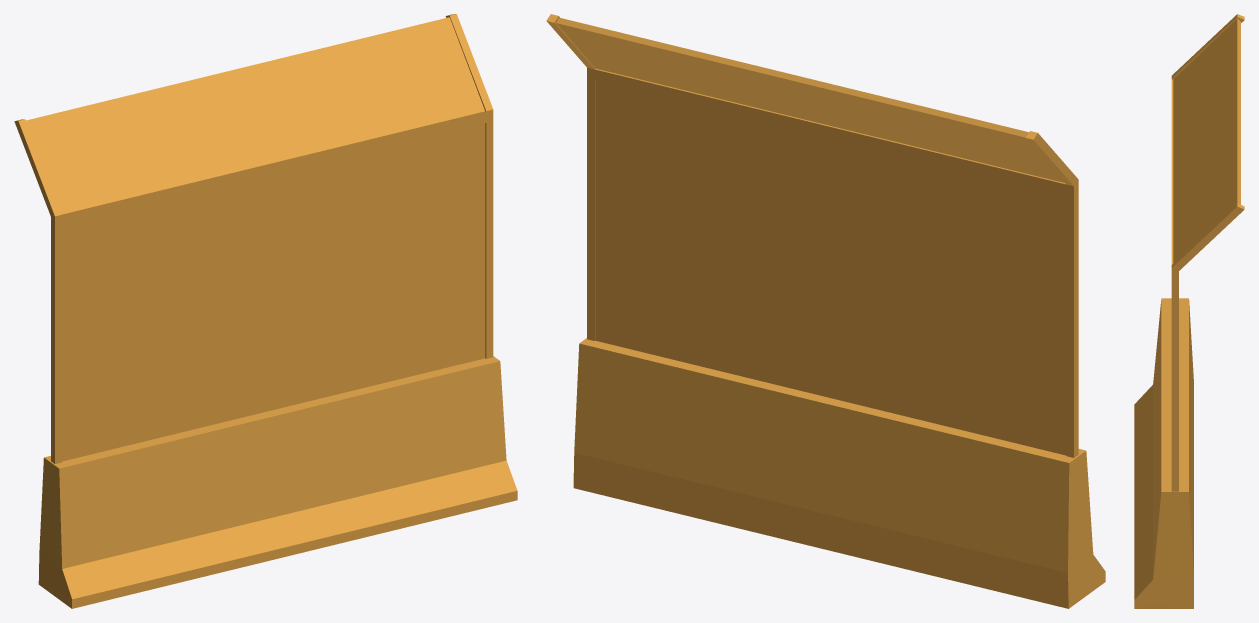
The model's file is racing-barrier-concrete-glass.glb.
3 views of the same model, side by side, from view 1: azimuth 30°, elevation 25°; view 2: azimuth 150°, elevation 25°; view 3: azimuth 270°, elevation 25° (orthographic). The views are drawn at different scales.
Visible parts, largest first — view 1: barrier-concrete-glass; view 2: barrier-concrete-glass; view 3: barrier-concrete-glass.
Boxes of the visible parts, x1,y1,x2,y2 form: barrier-concrete-glass: [14, 14, 517, 608]; barrier-concrete-glass: [546, 14, 1105, 608]; barrier-concrete-glass: [1134, 14, 1244, 608].
Size of the model in its own units: 5.03 by 4.8 by 1.2.
